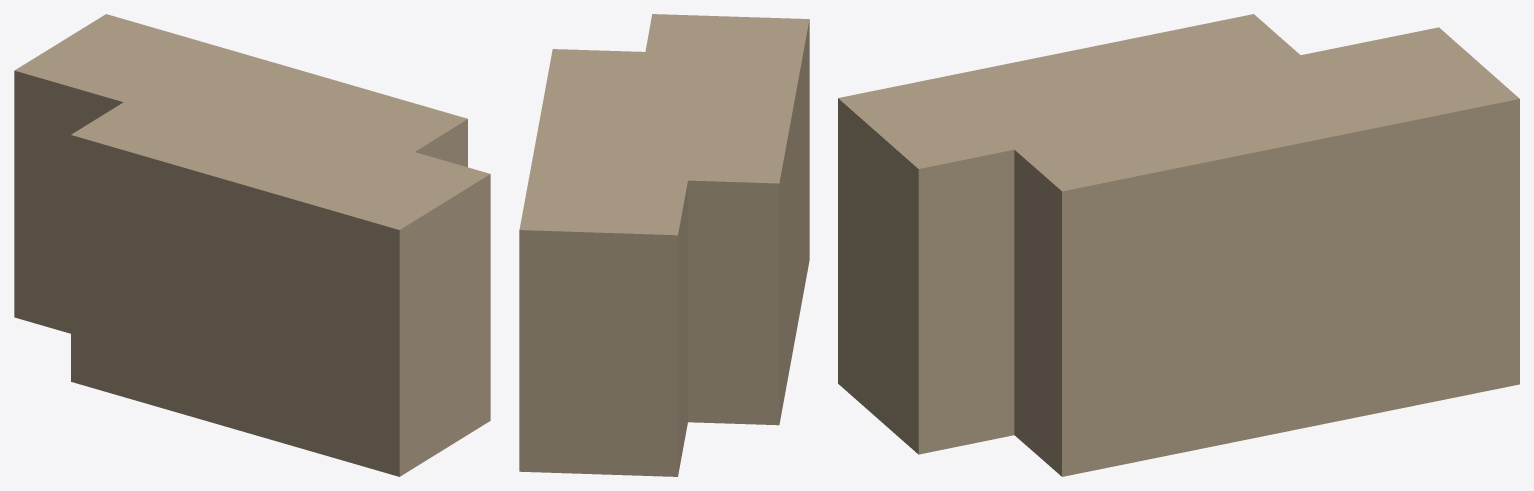
The model's file is bld_107625363.dae.
3 views of the same model, side by side, from view 1: azimuth 30°, elevation 25°; view 2: azimuth 150°, elevation 25°; view 3: azimuth 270°, elevation 25° (orthographic). The views are drawn at different scales.
Visible parts, largest first — view 1: bld_107625363; view 2: bld_107625363; view 3: bld_107625363.
Part boxes in pixels (box(x1,y1,x2,y2)): bld_107625363: box(14, 14, 490, 476); bld_107625363: box(519, 14, 809, 476); bld_107625363: box(838, 14, 1519, 476).
Bounding box in the file's own units: 10.66 × 17.32 × 8.
